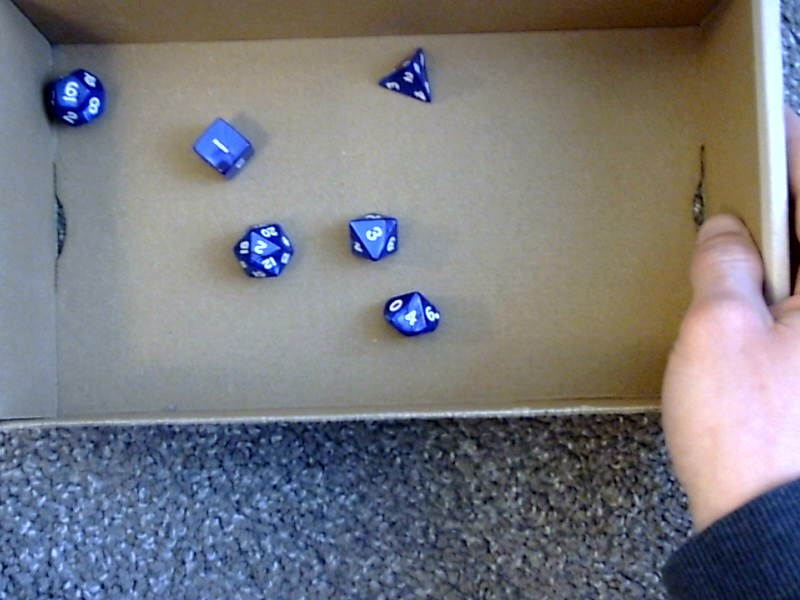d10 4: (381, 290, 446, 338)
d12 6: (37, 64, 113, 128)
d20 2: (230, 218, 296, 282)
d4 2: (377, 44, 440, 104)
d6 1: (190, 117, 254, 181)
d8 3: (343, 208, 407, 263)
